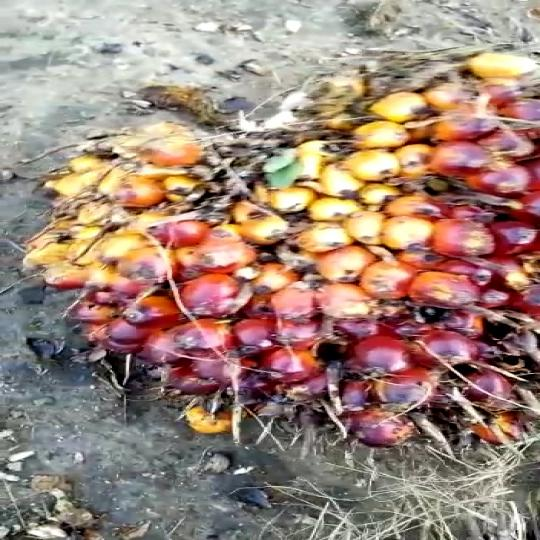masak: (25, 46, 540, 457)
